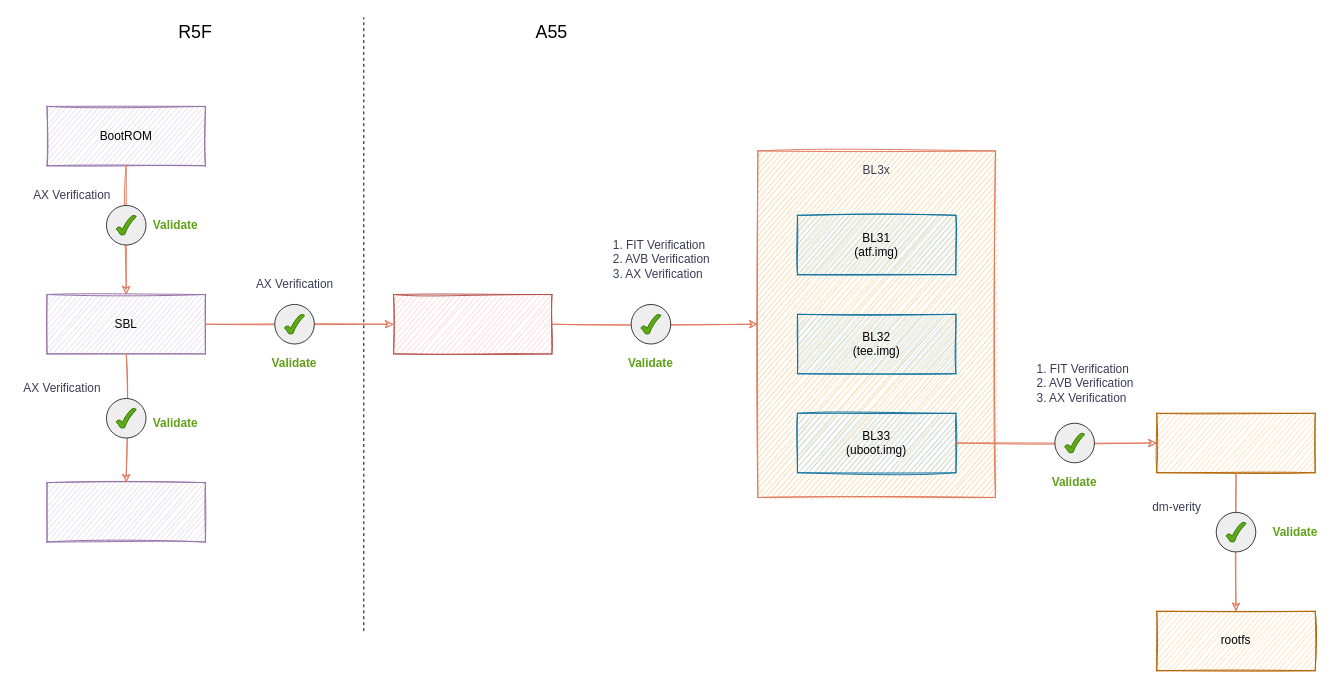
The diagram is 1341 pixels wide and 688 high, and some of its shapes have lost their labels. The box of each missing label's shape, as (x1, y1, x2, y2) in pixels:
AutoSAR/RTOS: (46, 482, 205, 542)
Kernel (Linux+initramfs+dtb): (1156, 412, 1315, 473)
SPL: (393, 294, 552, 354)
